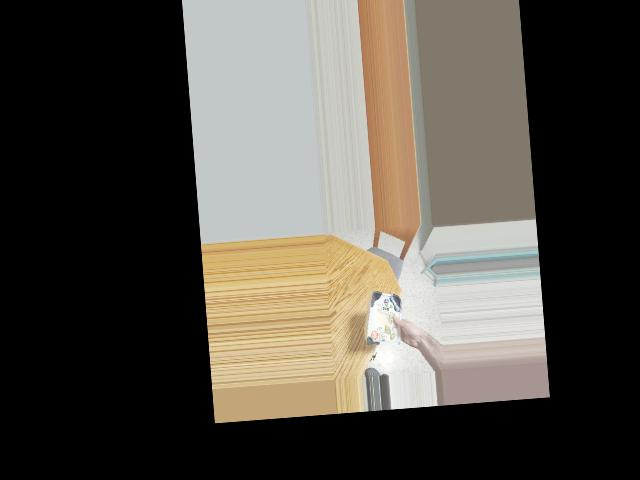cheese: (361, 289, 406, 346)
